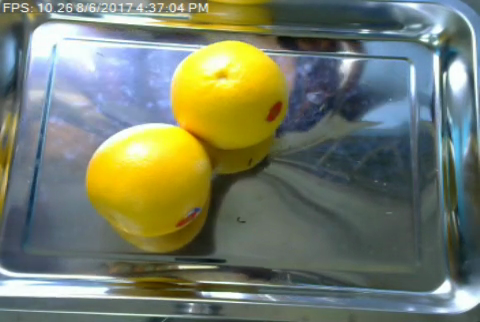Orange: (85, 122, 211, 237), (168, 41, 289, 149)
